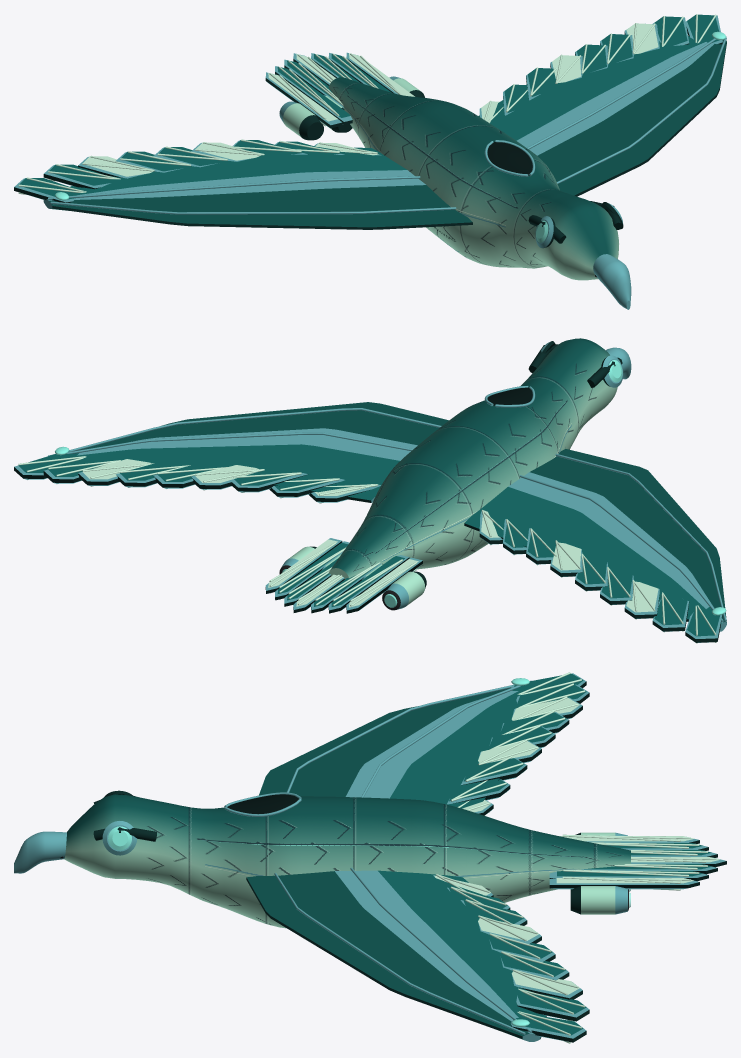
The picture shows the model from 3 angles, top to bottom: view 1: azimuth 30°, elevation 25°; view 2: azimuth 150°, elevation 25°; view 3: azimuth 270°, elevation 25°; orthographic projection. The views are drawn at different scales.
Visible parts, largest first — view 1: falcon_hull; view 2: falcon_hull; view 3: falcon_hull.
Boxes of the visible parts, box(x1,y1,x2,y2) form: falcon_hull: box(14, 14, 726, 309); falcon_hull: box(14, 338, 726, 643); falcon_hull: box(14, 672, 726, 1043).
Size of the model in its own units: 68 by 10.83 by 56.07.
1 material, 1 textured.
